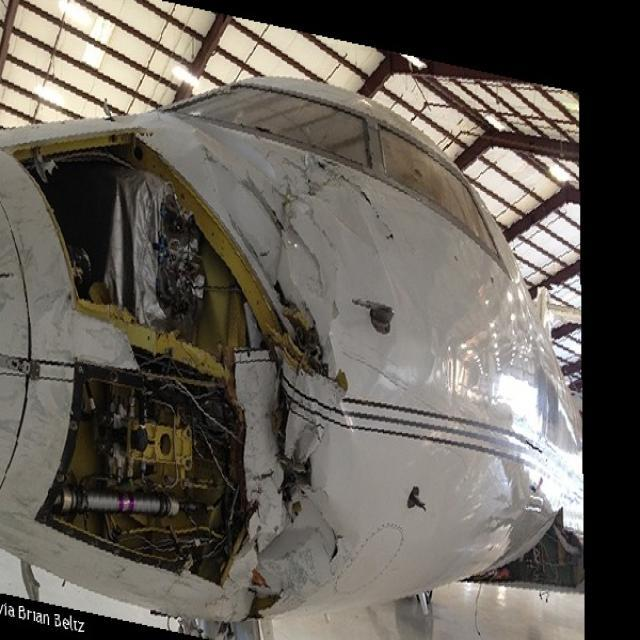crack: (315, 158, 398, 241), (305, 491, 347, 566)
